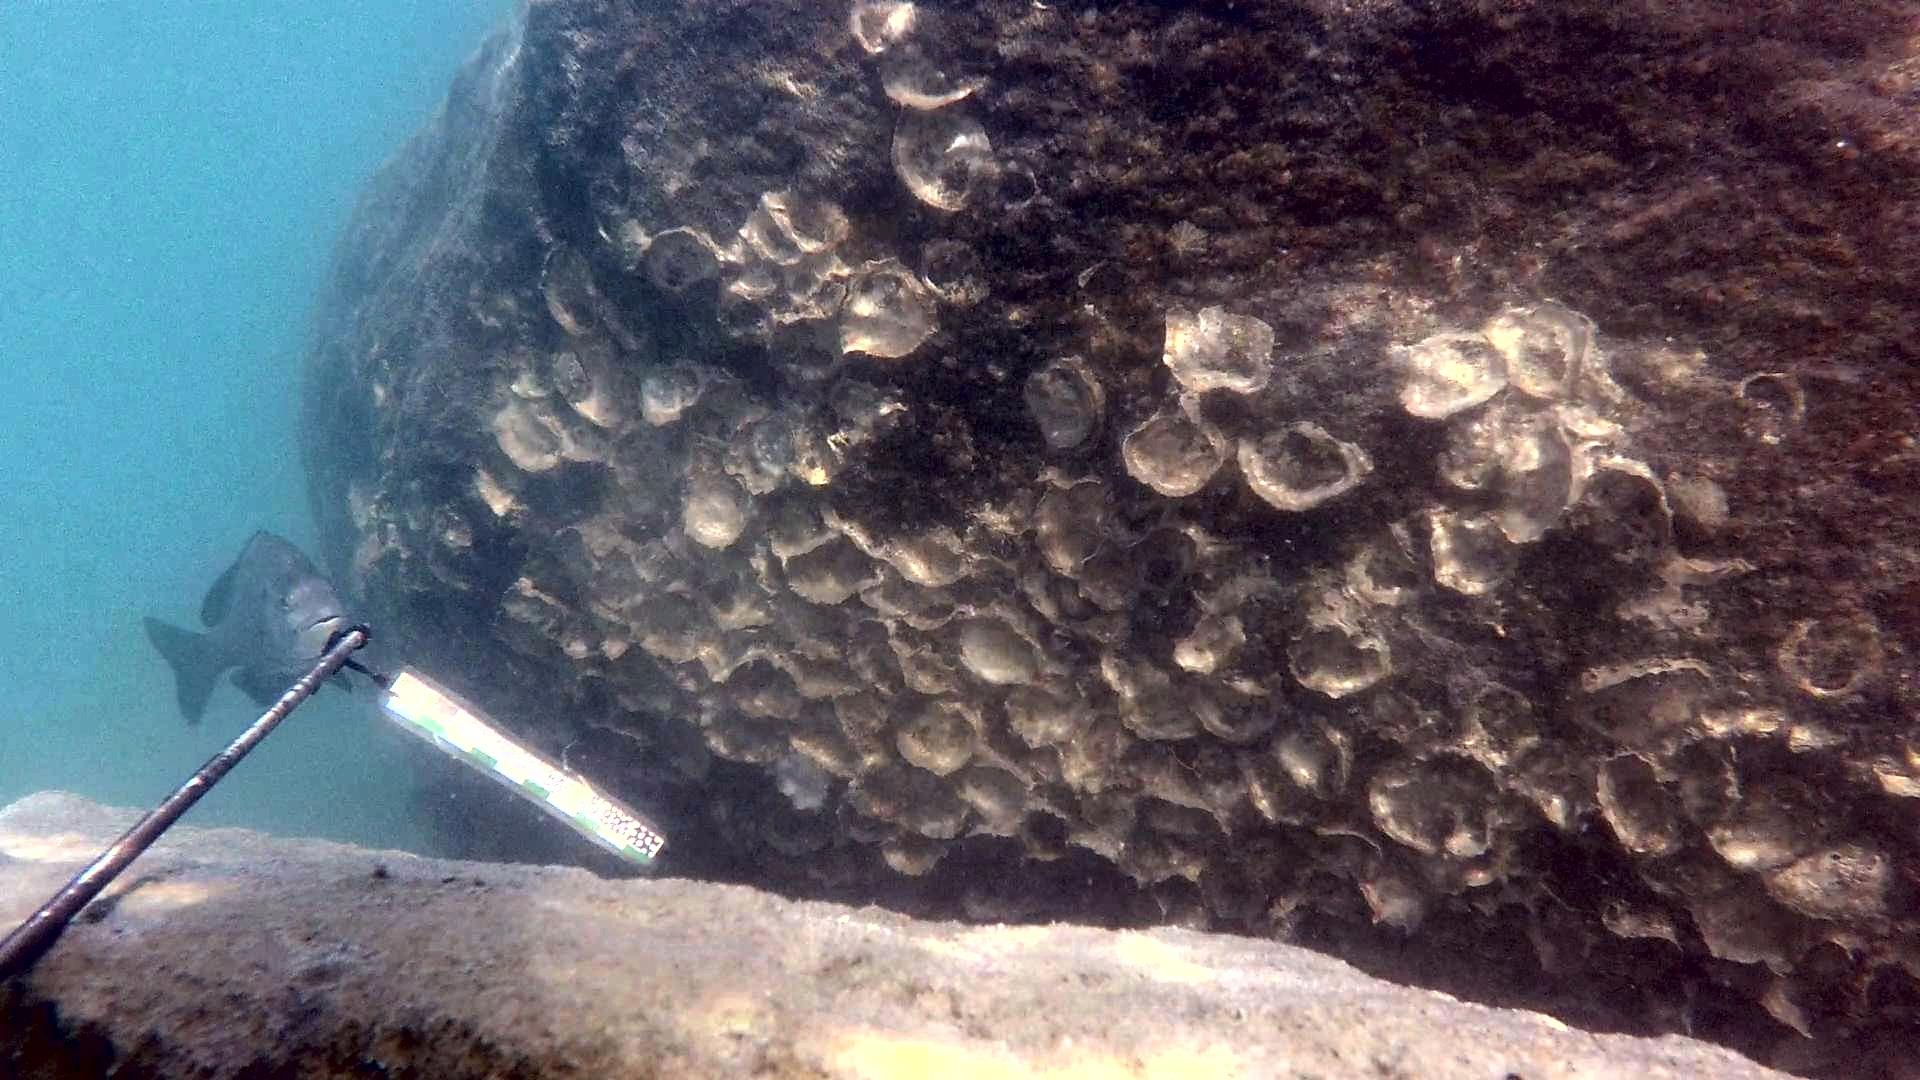acanthopagrus palmaris: (142, 519, 355, 731)
